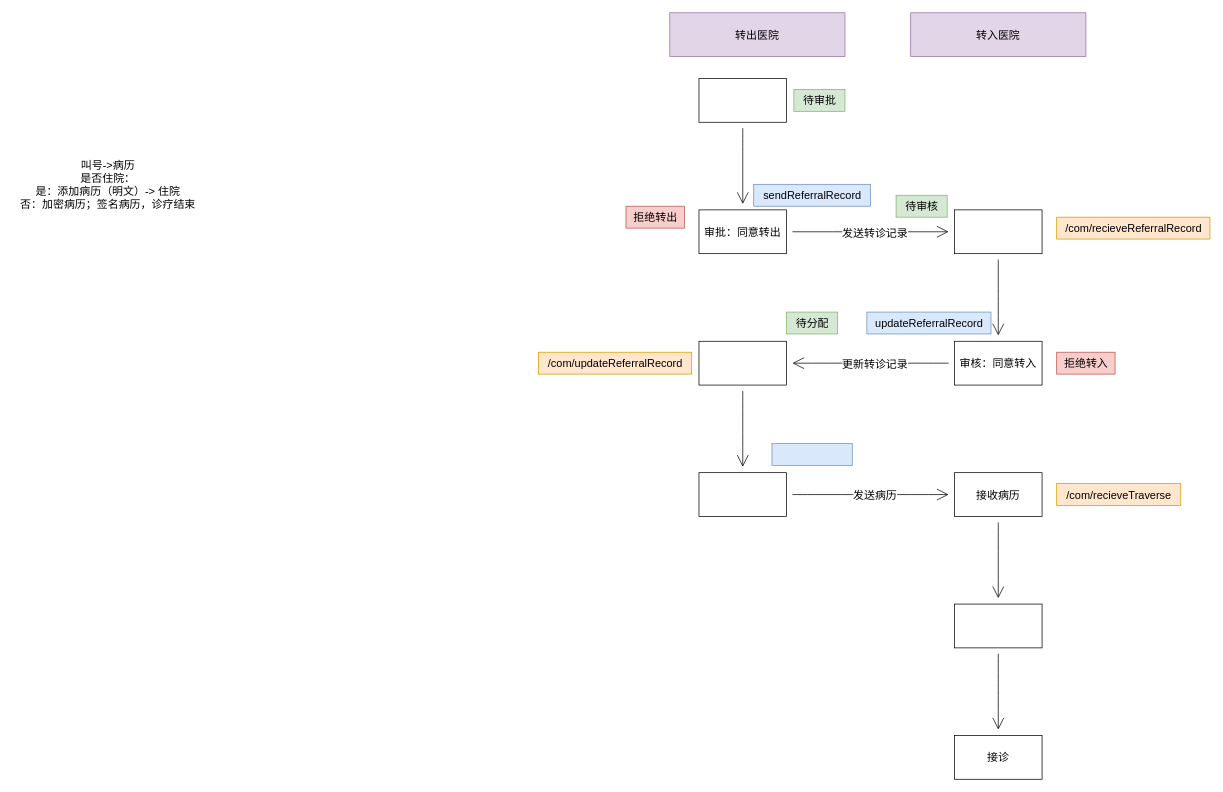
This 1223x792 diagram has some shape labels left out. Here are the shapes that lost their labels. From the top down, the centre of each, then its label:
(x=742, y=100): 发出转诊申请 待审批的转诊记录
(x=998, y=231): 待审核的转诊记录
(x=742, y=363): 同意转入的转诊记录
(x=811, y=454): sendTraverse
(x=742, y=494): 加密、签名病历
(x=998, y=625): 分配医生
